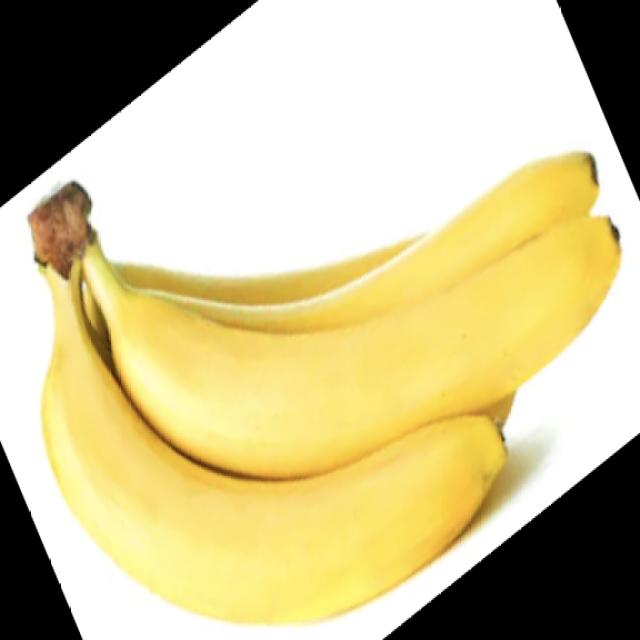god quality banana: (28, 153, 621, 624)
